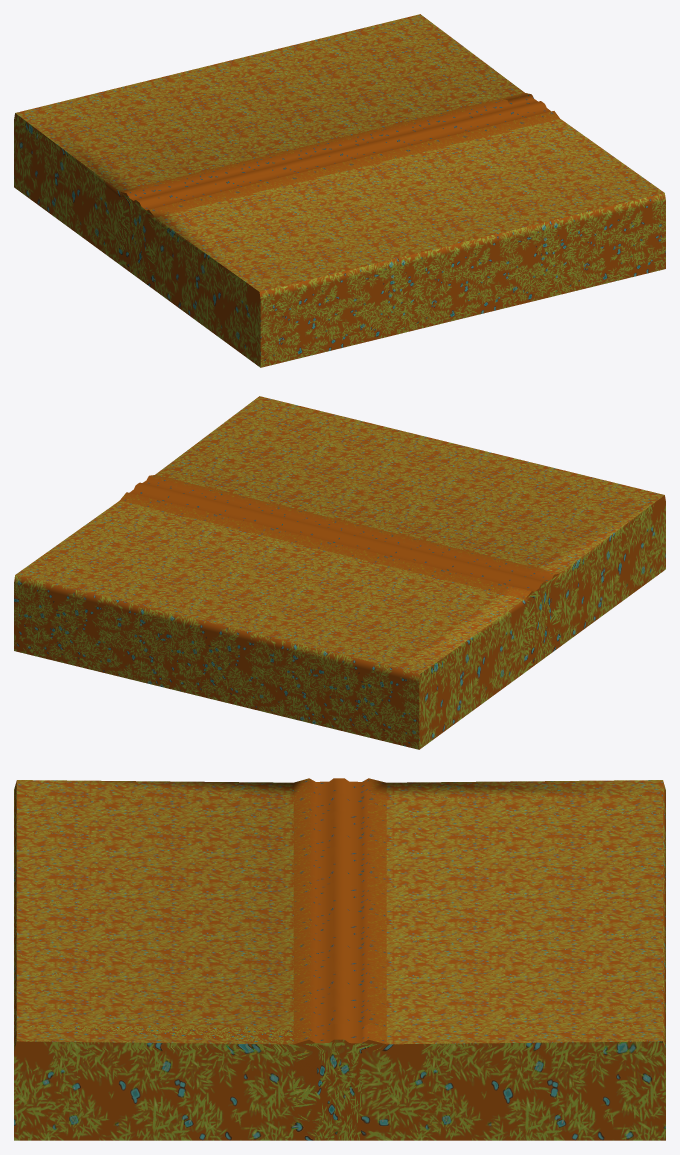
Rendered from Road_grooves .fbx.
The picture shows the model from 3 angles, top to bottom: view 1: azimuth 30°, elevation 25°; view 2: azimuth 150°, elevation 25°; view 3: azimuth 270°, elevation 25°; orthographic projection. The views are drawn at different scales.
Parts seen in each view (by area): view 1: Mesh_Path_Straight5; view 2: Mesh_Path_Straight5; view 3: Mesh_Path_Straight5.
Boxes of the visible parts, <box> form: Mesh_Path_Straight5: <box>14,14,665,367</box>; Mesh_Path_Straight5: <box>14,396,665,749</box>; Mesh_Path_Straight5: <box>14,778,665,1140</box>.
Size of the model in its own units: 5588 by 1009 by 5890.
